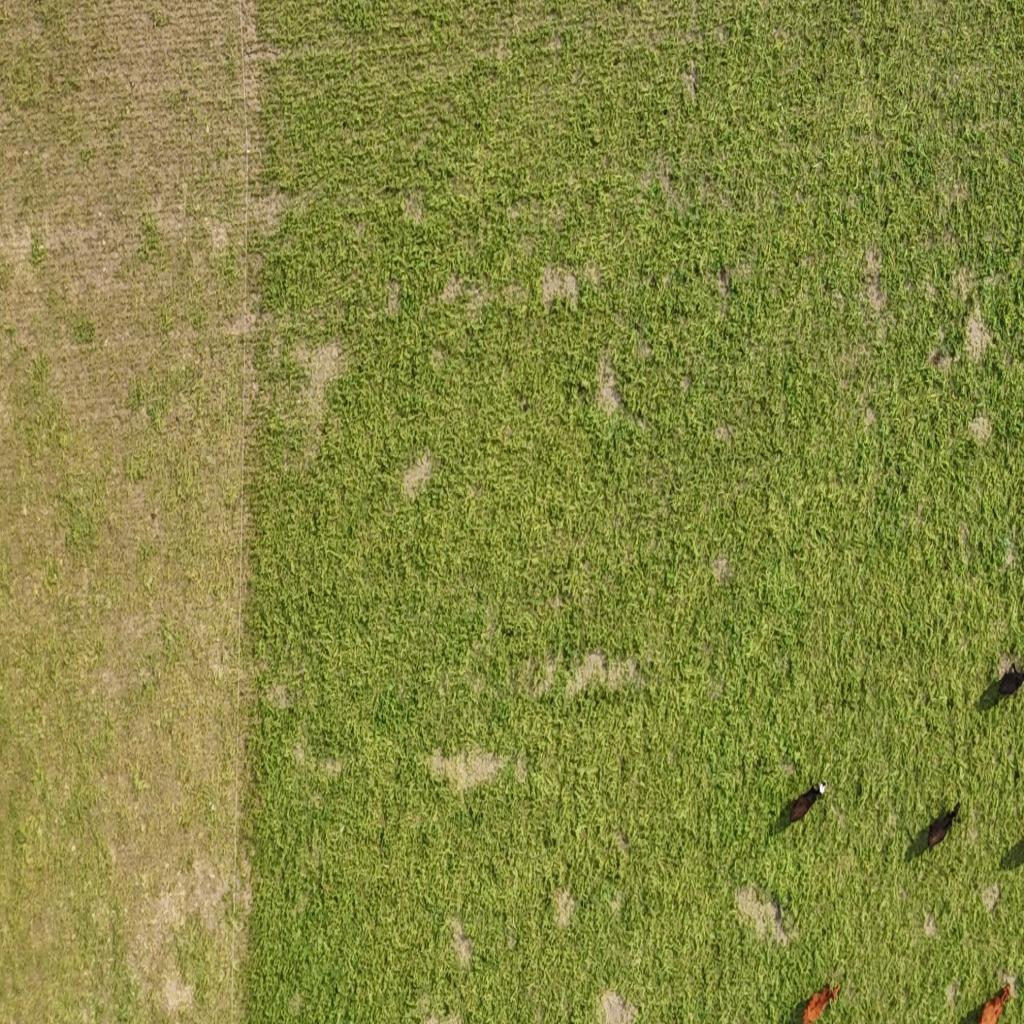cow: (915, 802, 961, 858), (781, 778, 826, 830), (801, 980, 844, 1024), (972, 980, 1015, 1024), (985, 662, 1024, 706)
